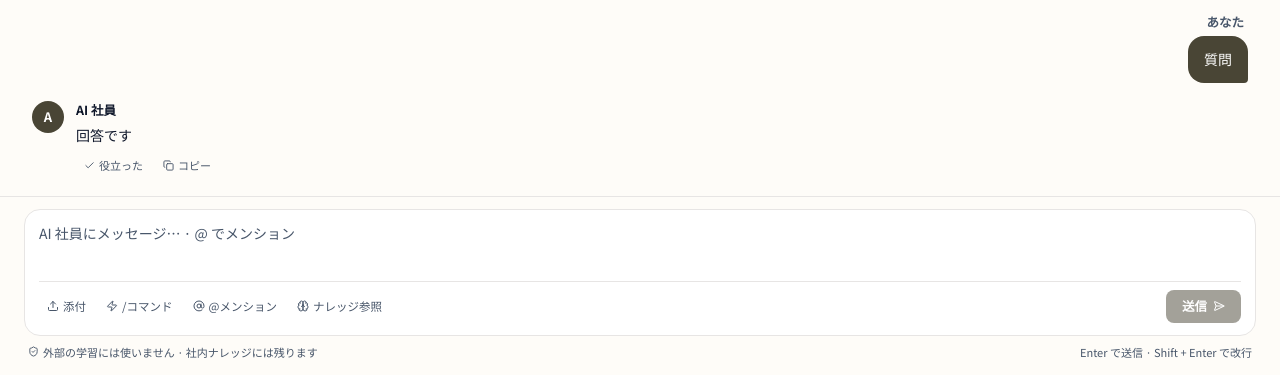
Test case: S-E01 メッセージフィードバック (GAP-031 ① 役立った) › persisted な assistant メッセージに 役立った / コピー が出て POST される
Expected: the button with aria-label "メッセージをコピー" is shown, [155, 154, 219, 176]
Click the button with aria-label "フィードバック: 役立った" at [114, 165], box [76, 154, 151, 176]
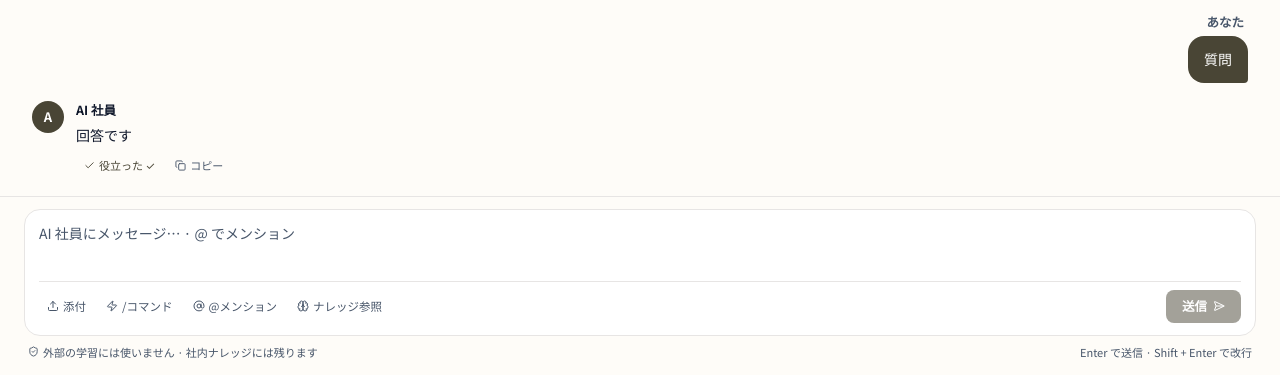
Result: the button with aria-label "フィードバック: 役立った" is disabled at [76, 154, 163, 176]
Result: the button with aria-label "フィードバック: 役立った" reads "役立った ✓" at [76, 154, 163, 176]
